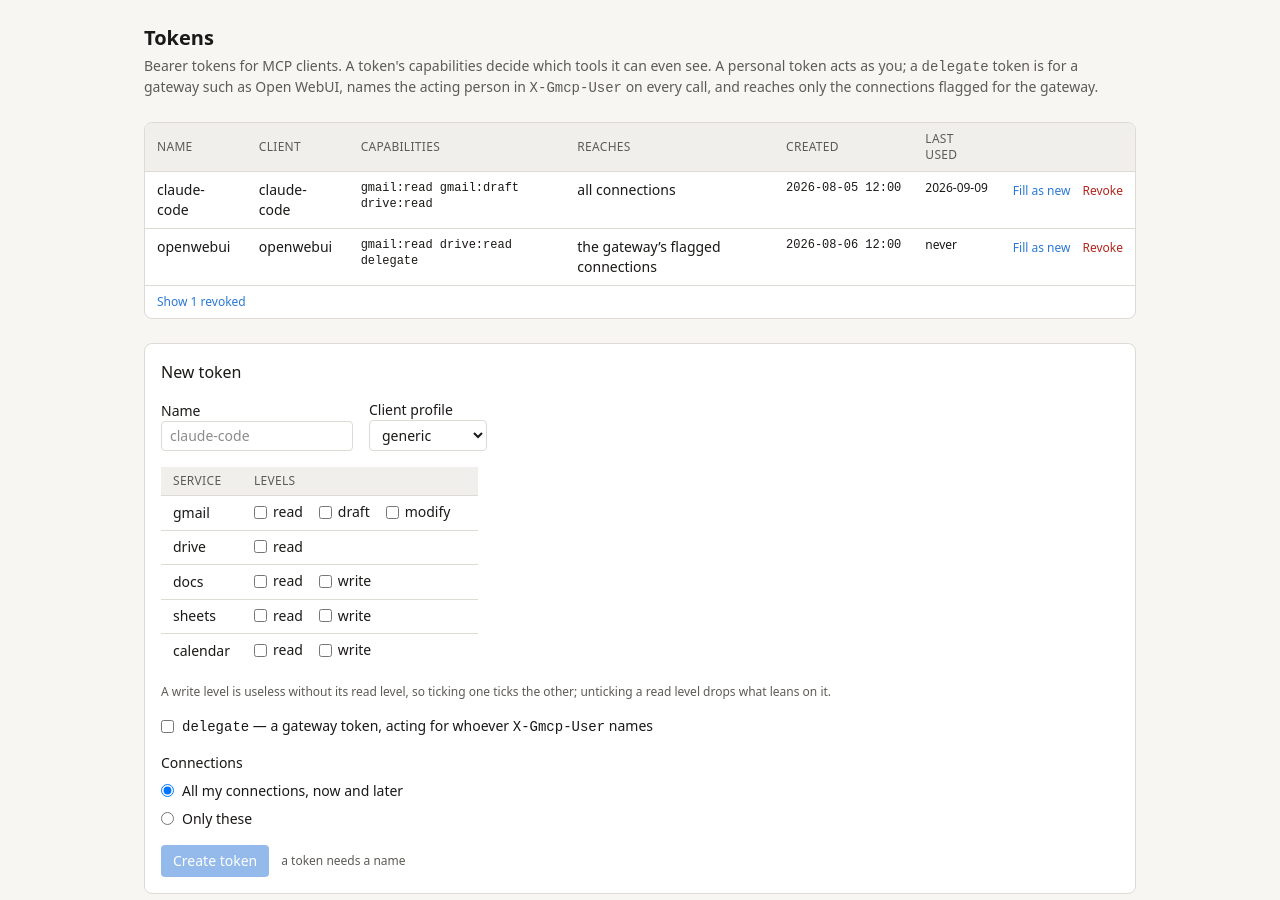
Test: views › TokensView asks before reusing the name of an active token, and Cancel creates nothing
The image size is (1280, 900).
Type " Claude-Code " into the field with test id "token-name" at (257, 436), box [161,421,353,451]
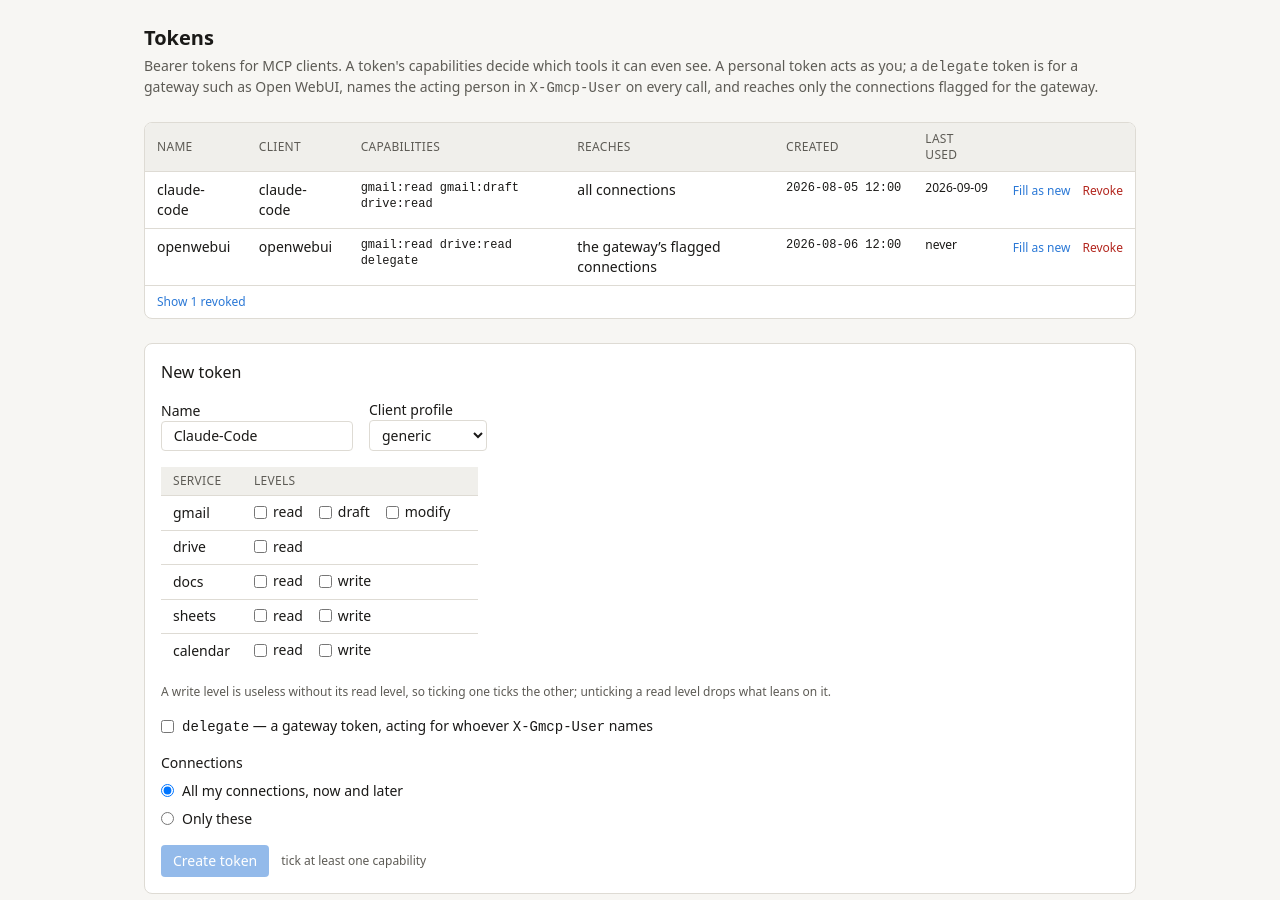
Click the checkbox with test id "scope-gmail:read" at (260, 512), box [254,506,267,518]
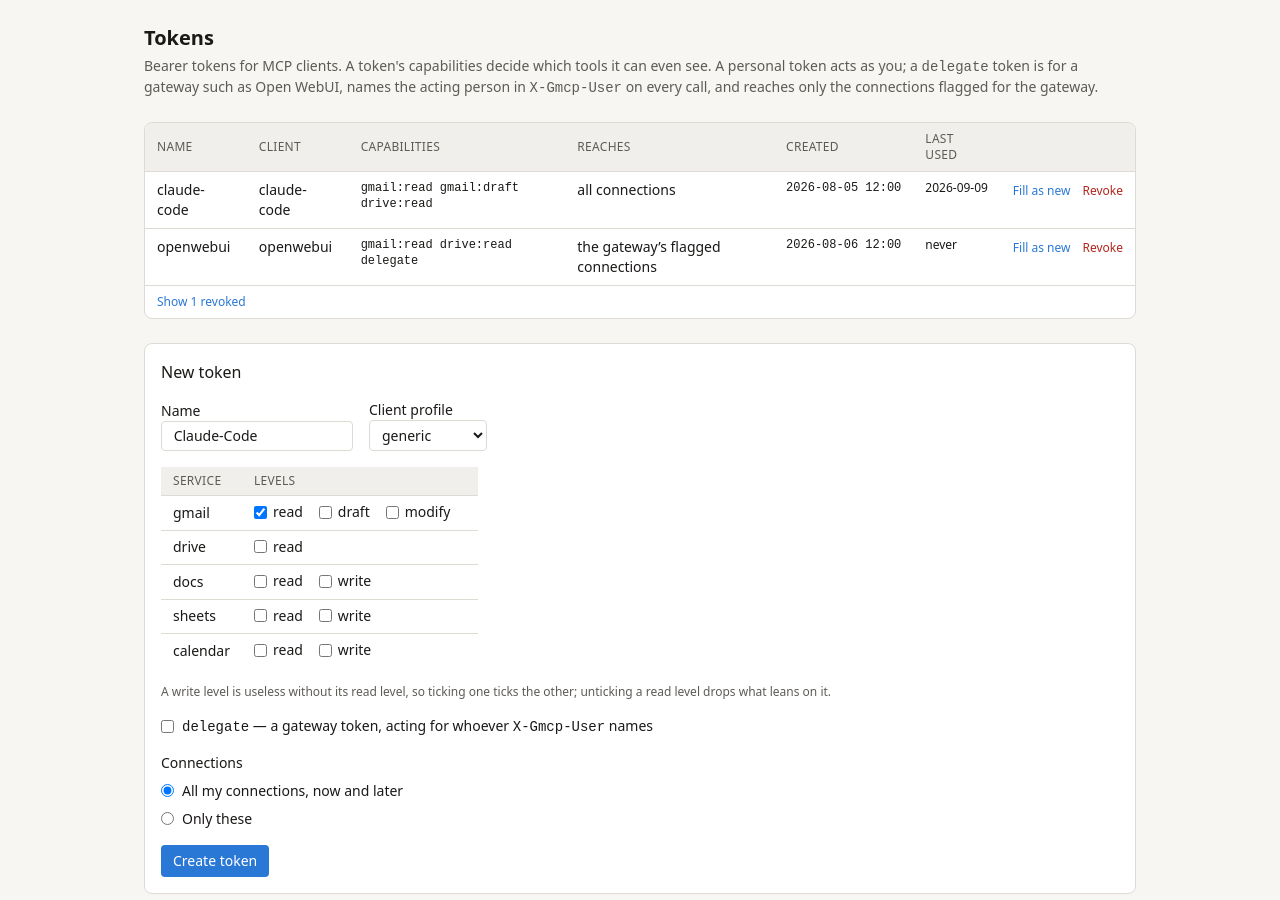
Submit the form with test id "token-form", box [144,343,1136,894]
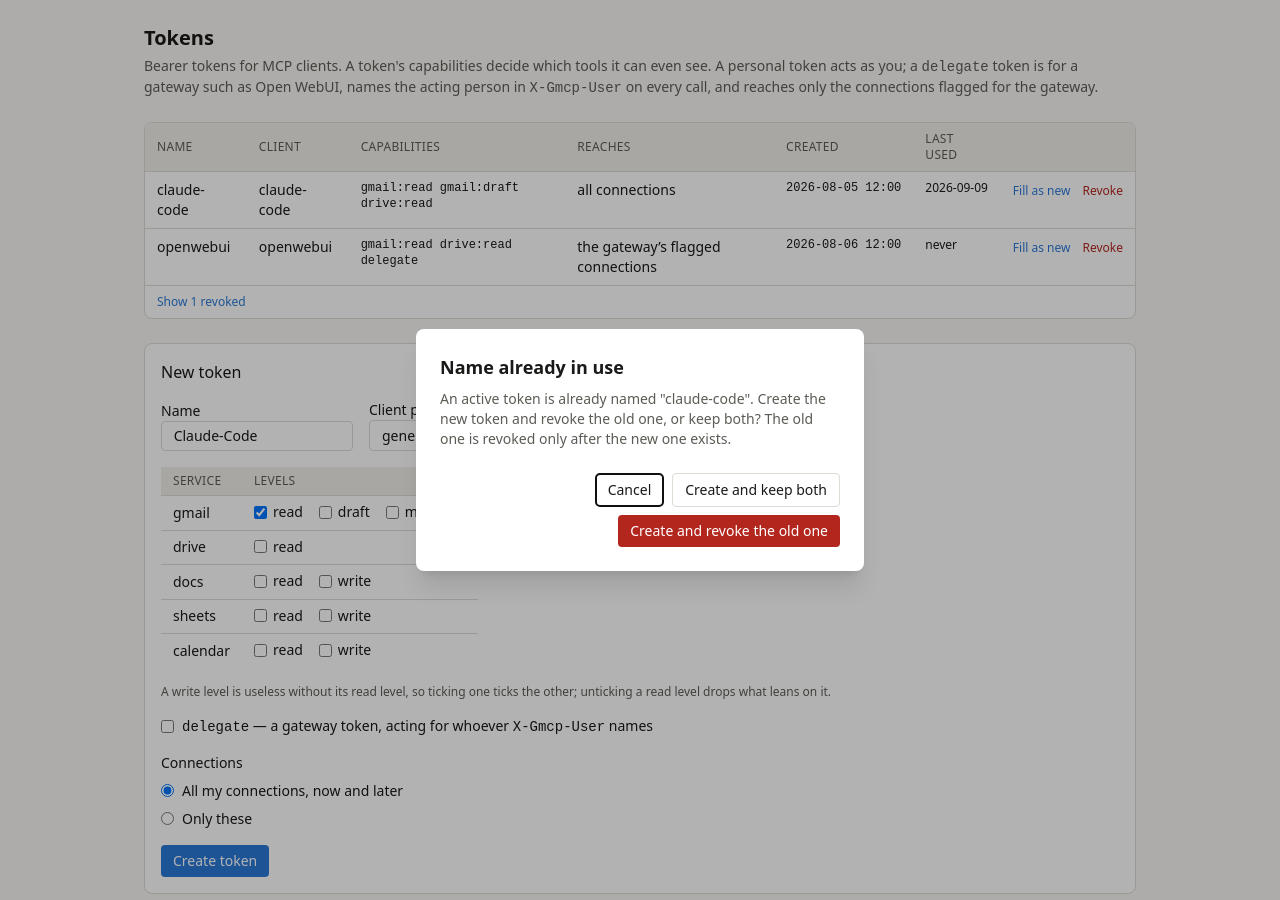
Result: the dialog with test id "confirm-dialog" shows "An active token is already named \"claude-code\"" at [440,389,826,448]
Result: the button with test id "confirm-yes" reads "Create and revoke the old one" at [618,515,840,547]
Result: the button "Create and keep both" is shown at [672,473,840,507]
Click the button "Cancel" at (630, 490), box [595,473,664,507]
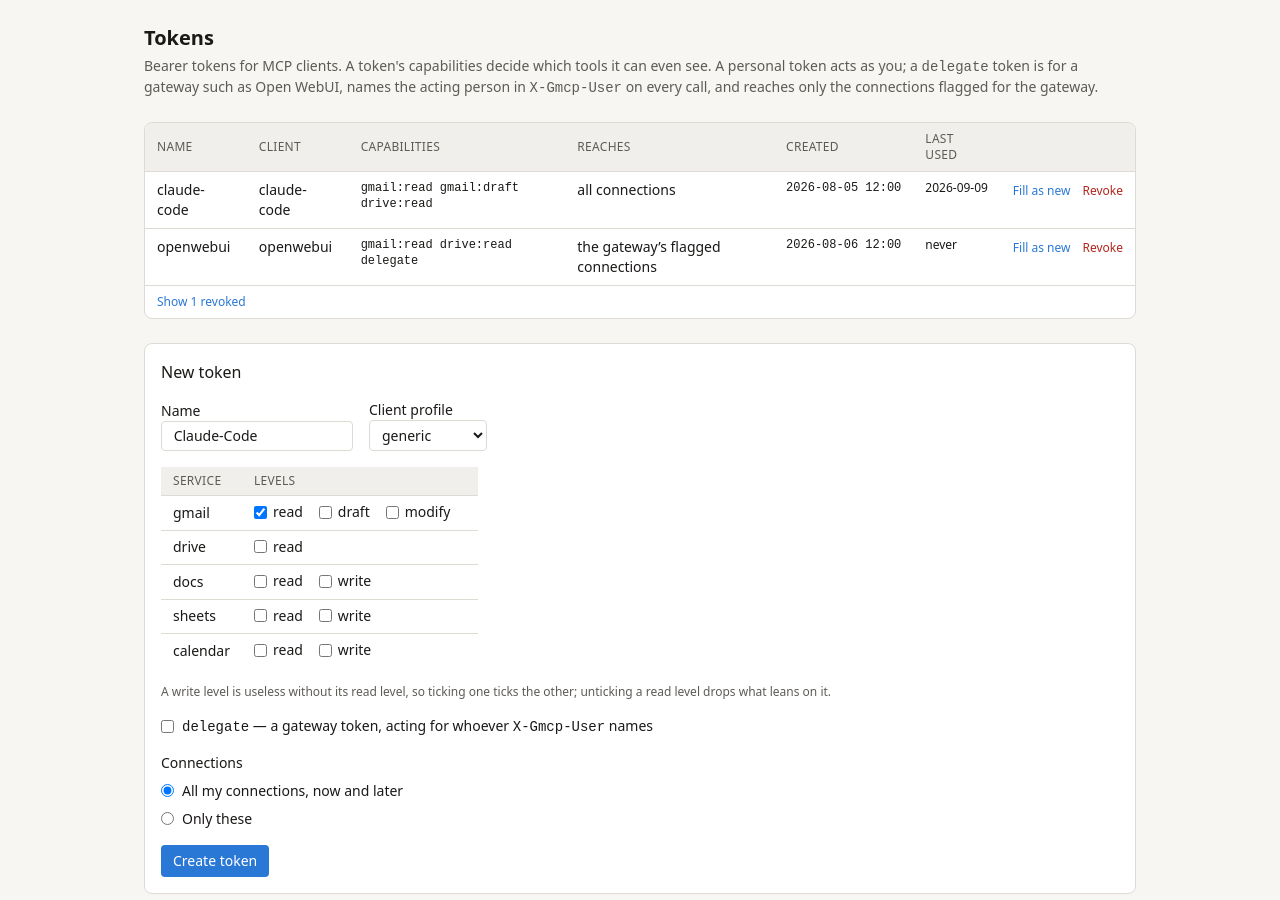
Result: the dialog with test id "confirm-dialog" is gone
